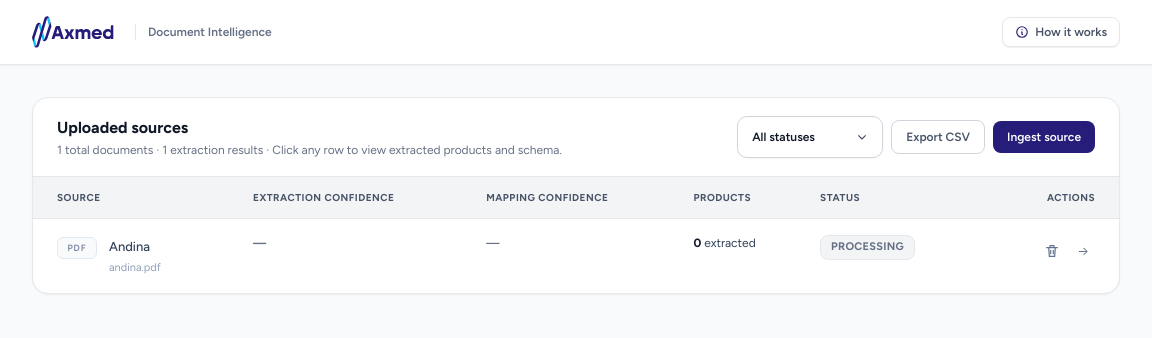
App › explains when extraction is waiting for service configuration
The width and height of the screenshot is (1152, 338).
Click the button with class "group" showing "Andina": x=130, y=247 left=109, top=235, right=150, bottom=258
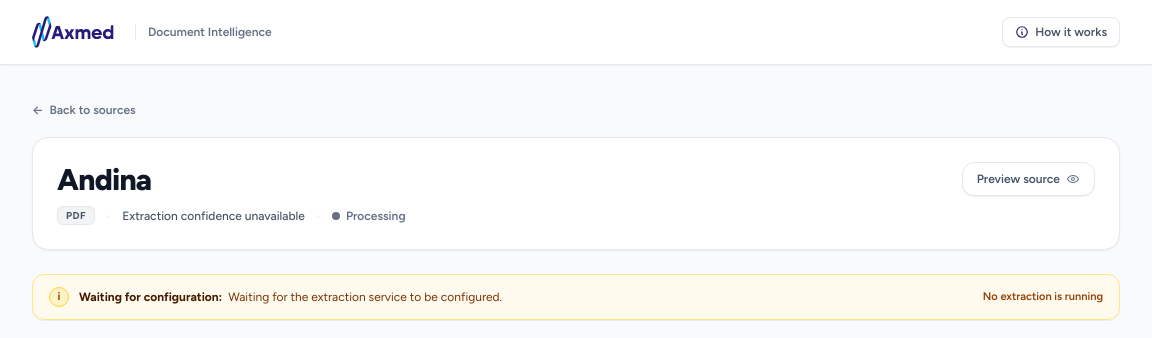
Result: the text "Waiting for configuration:" is shown at left=79, top=290, right=222, bottom=304
Result: the text "Waiting for the extraction service to be configured." is shown at left=228, top=290, right=502, bottom=304
Result: the text "No extraction is running" is shown at left=983, top=290, right=1103, bottom=305
